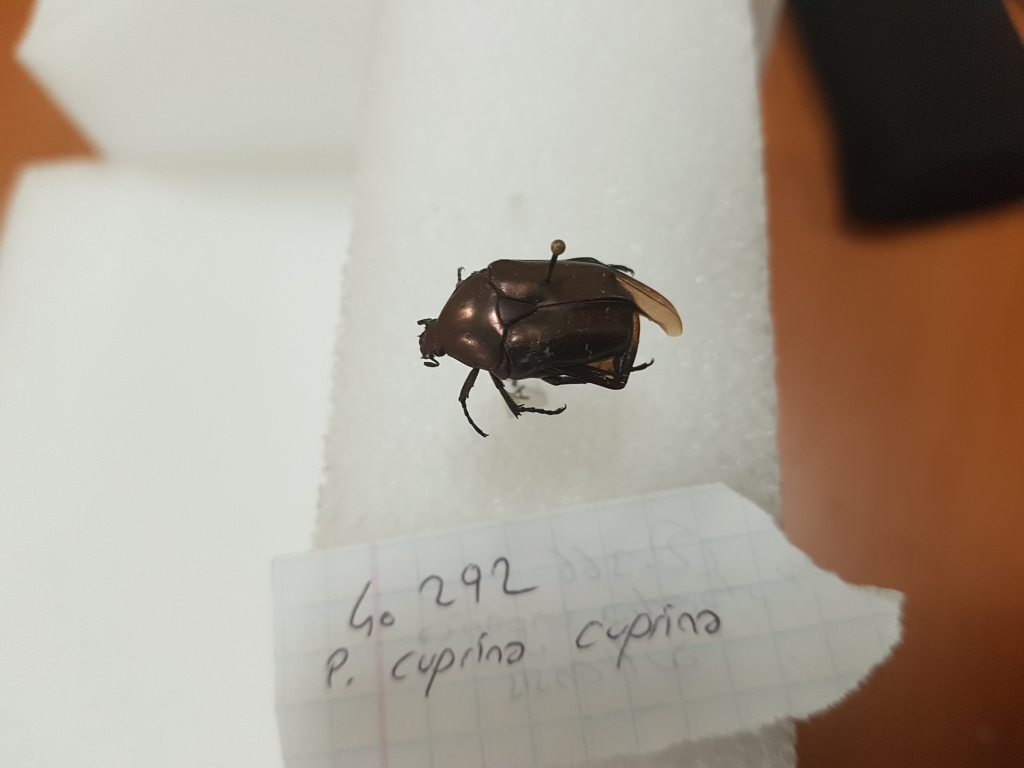Protaetia_cuprina_cuprina: (405, 244, 692, 419)
